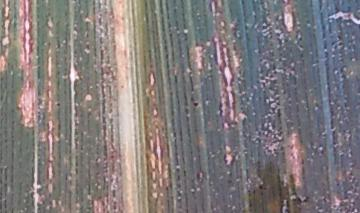tarspot: (190, 98, 202, 111), (257, 182, 267, 193), (55, 98, 62, 112)
